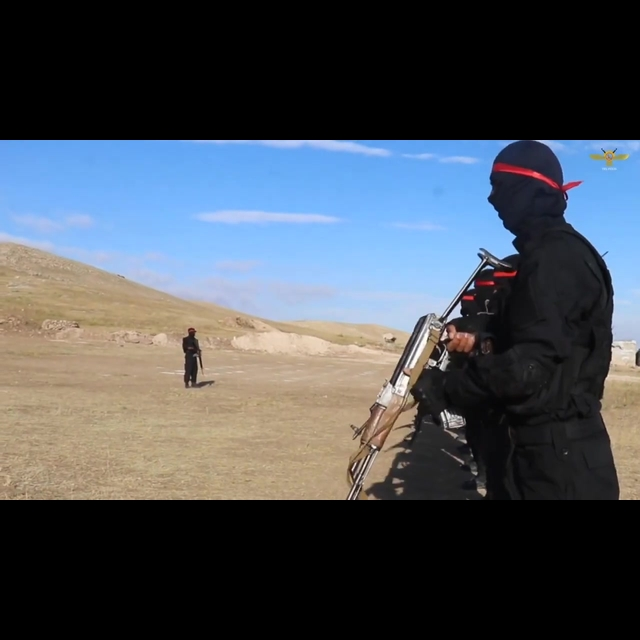AK47: (337, 308, 459, 501)
